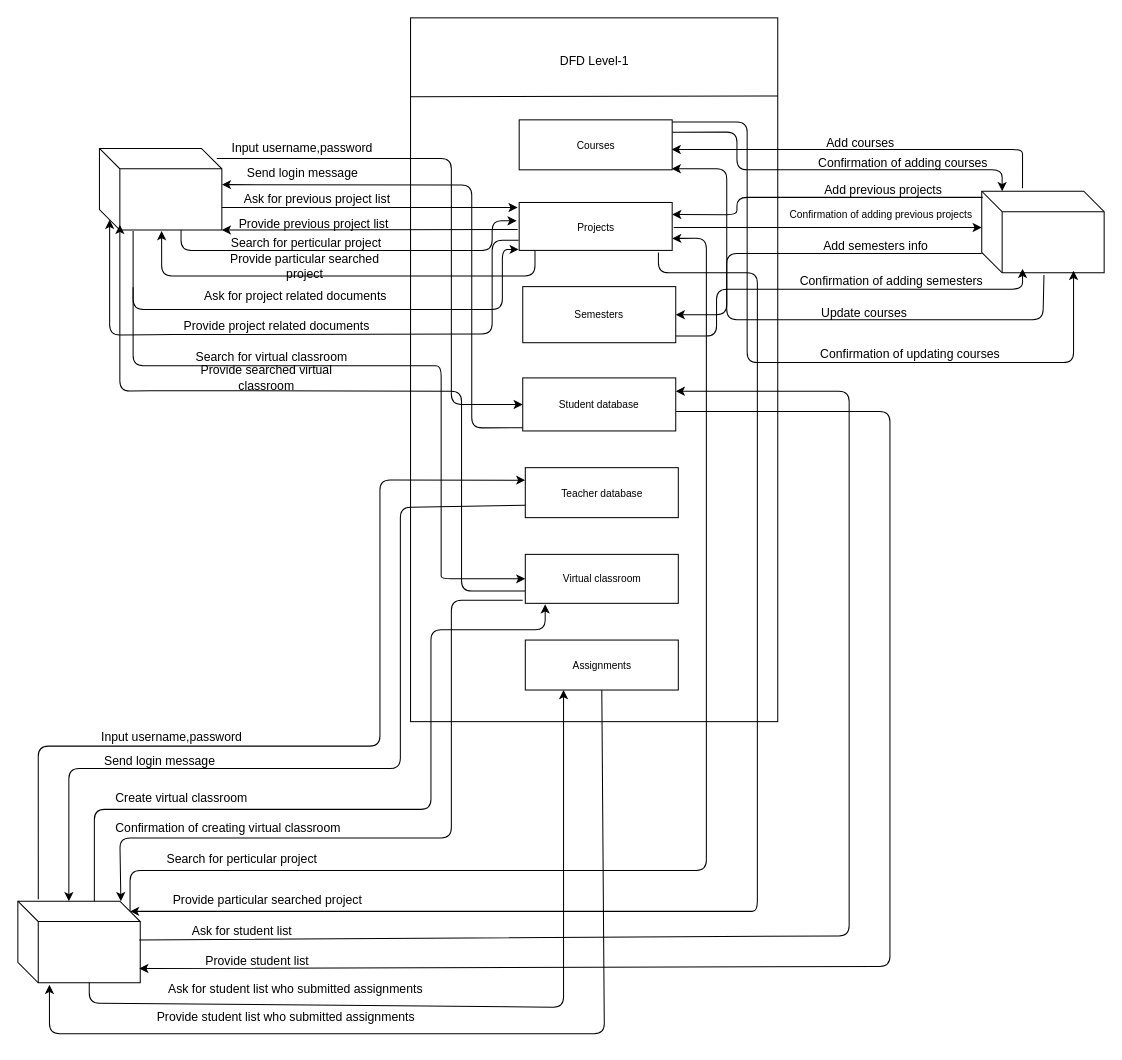
This 1122x1060 diagram has some shape labels left out. Here are the shapes that lost their labels. From the top down, the centre of each, then its label:
(x=160, y=188): Student
(x=1042, y=231): Admin
(x=78, y=941): Teacher
